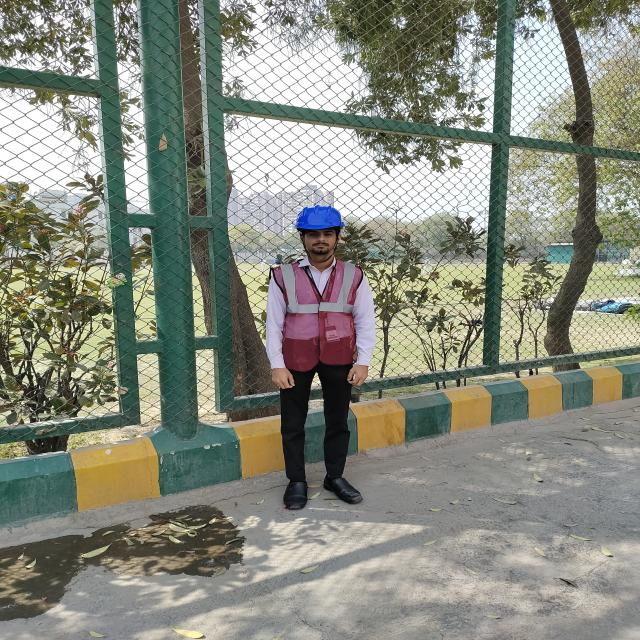safe: (264, 206, 372, 508)
